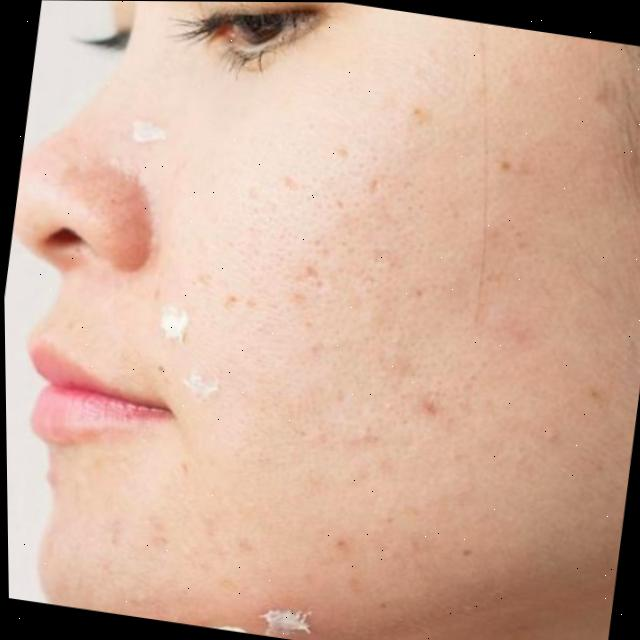Acne: (197, 89, 577, 487)
